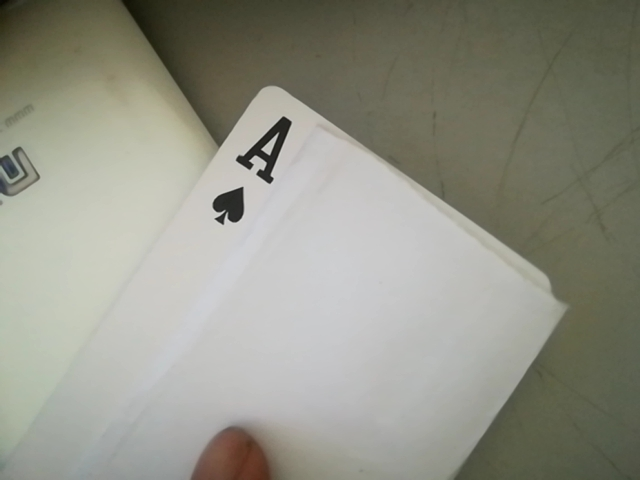ht a: (198, 99, 321, 233)
